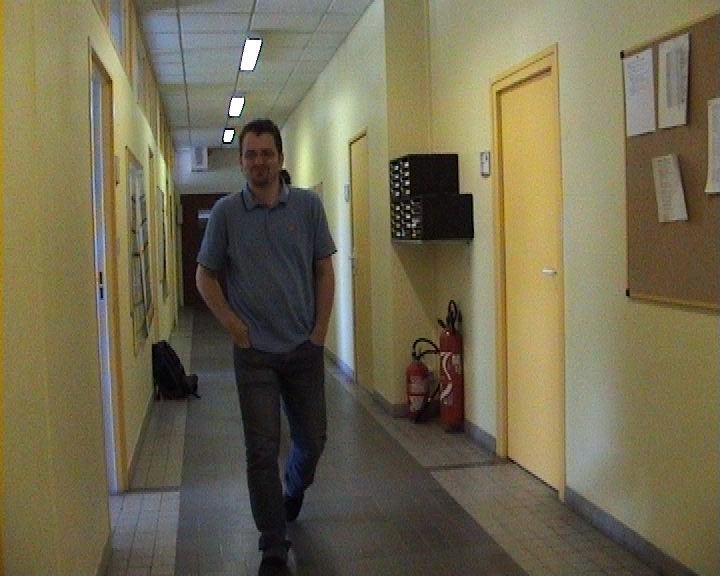leave bag unattended: (138, 329, 246, 447)
